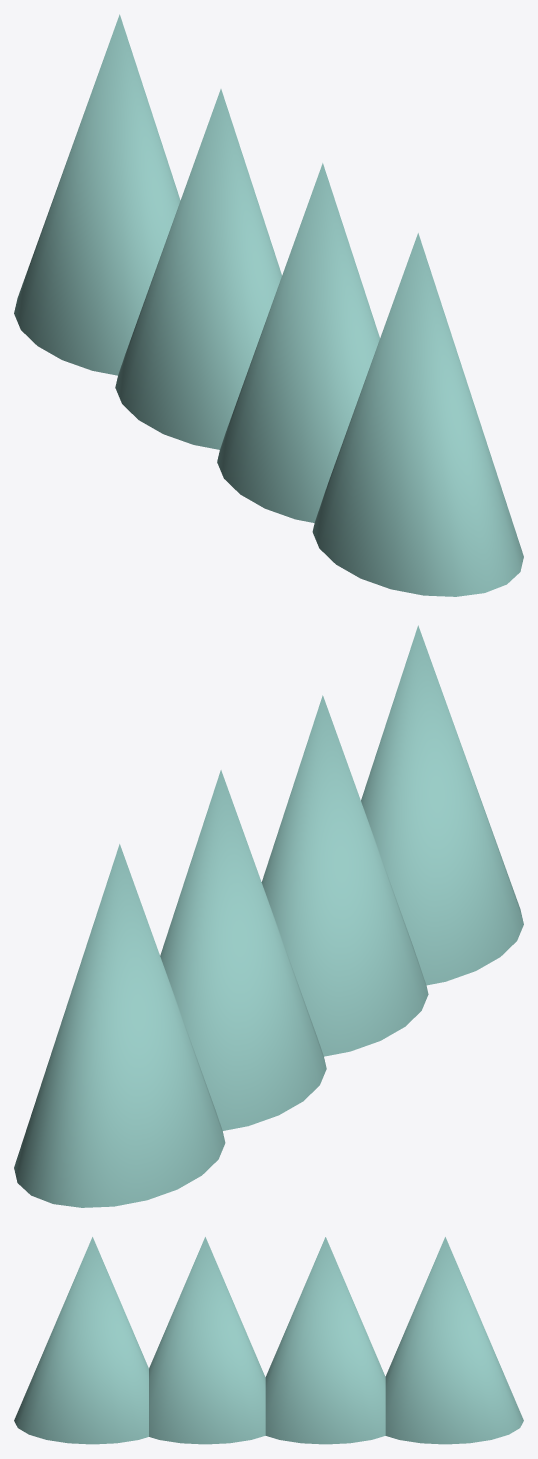
File: Traps.fbx
3 renders of one model, top to bottom at view 1: azimuth 30°, elevation 25°; view 2: azimuth 150°, elevation 25°; view 3: azimuth 270°, elevation 25°, orthographic. The views are drawn at different scales.
Visible parts, largest first — view 1: pasted__pCone1 (×3), pCone1; view 2: pasted__pCone1 (×3), pCone1; view 3: pasted__pCone1 (×3), pCone1.
Part boxes in pixels (left/top/right/bottom): pasted__pCone1 (×3): left=14, top=14, right=379, bottom=522; pCone1: left=312, top=233, right=523, bottom=596; pasted__pCone1 (×3): left=14, top=695, right=428, bottom=1207; pCone1: left=361, top=625, right=523, bottom=985; pasted__pCone1 (×3): left=149, top=1237, right=523, bottom=1444; pCone1: left=14, top=1237, right=148, bottom=1444.
Size of the model in its own units: 1.11 by 2 by 5.02.
